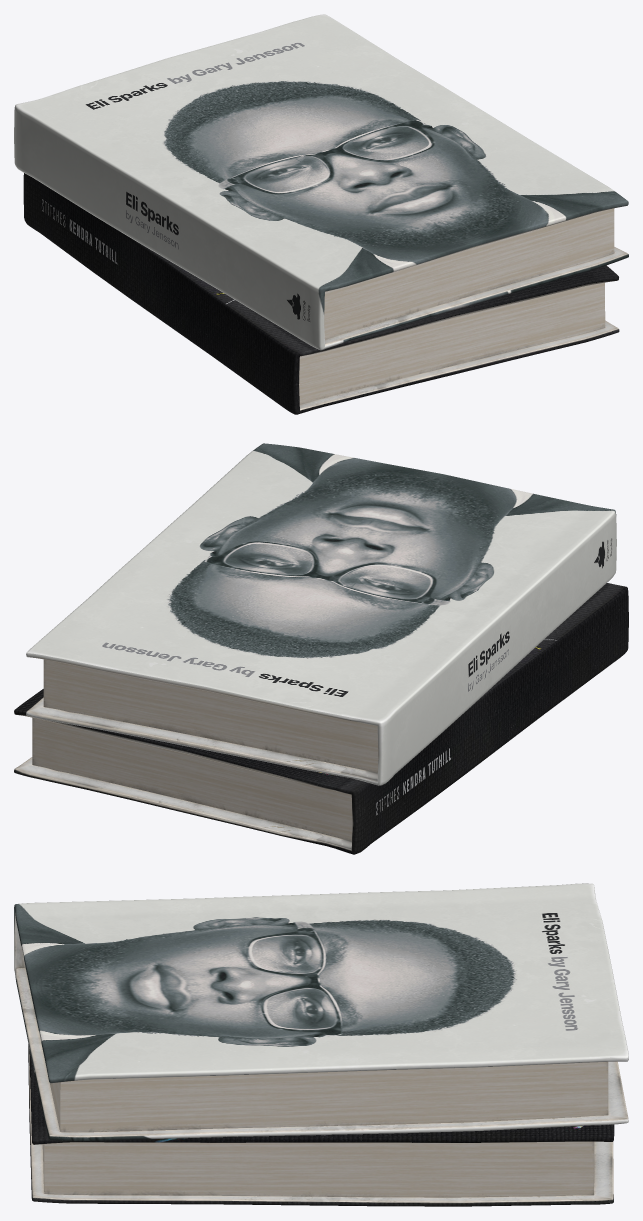
Rendered from coffee_table_books.glb.
The picture shows the model from 3 angles, top to bottom: view 1: azimuth 30°, elevation 25°; view 2: azimuth 150°, elevation 25°; view 3: azimuth 270°, elevation 25°; orthographic projection. The views are drawn at different scales.
Parts seen in each view (by area): view 1: Book_Large_4_Book Large - EliSparks_0, Book_Large_4_Book Large - Stitches_1; view 2: Book_Large_4_Book Large - EliSparks_0, Book_Large_4_Book Large - Stitches_1; view 3: Book_Large_4_Book Large - EliSparks_0, Book_Large_4_Book Large - Stitches_1.
Part boxes in pixels (x1,y1,x2,y2): Book_Large_4_Book Large - EliSparks_0: (14, 14, 628, 350); Book_Large_4_Book Large - Stitches_1: (23, 173, 619, 414); Book_Large_4_Book Large - EliSparks_0: (26, 443, 616, 785); Book_Large_4_Book Large - Stitches_1: (14, 583, 628, 854); Book_Large_4_Book Large - EliSparks_0: (14, 883, 628, 1140); Book_Large_4_Book Large - Stitches_1: (28, 1044, 614, 1206).
Size of the model in its own units: 0.1349 by 0.0462 by 0.1802.
2 materials, 2 textured.
